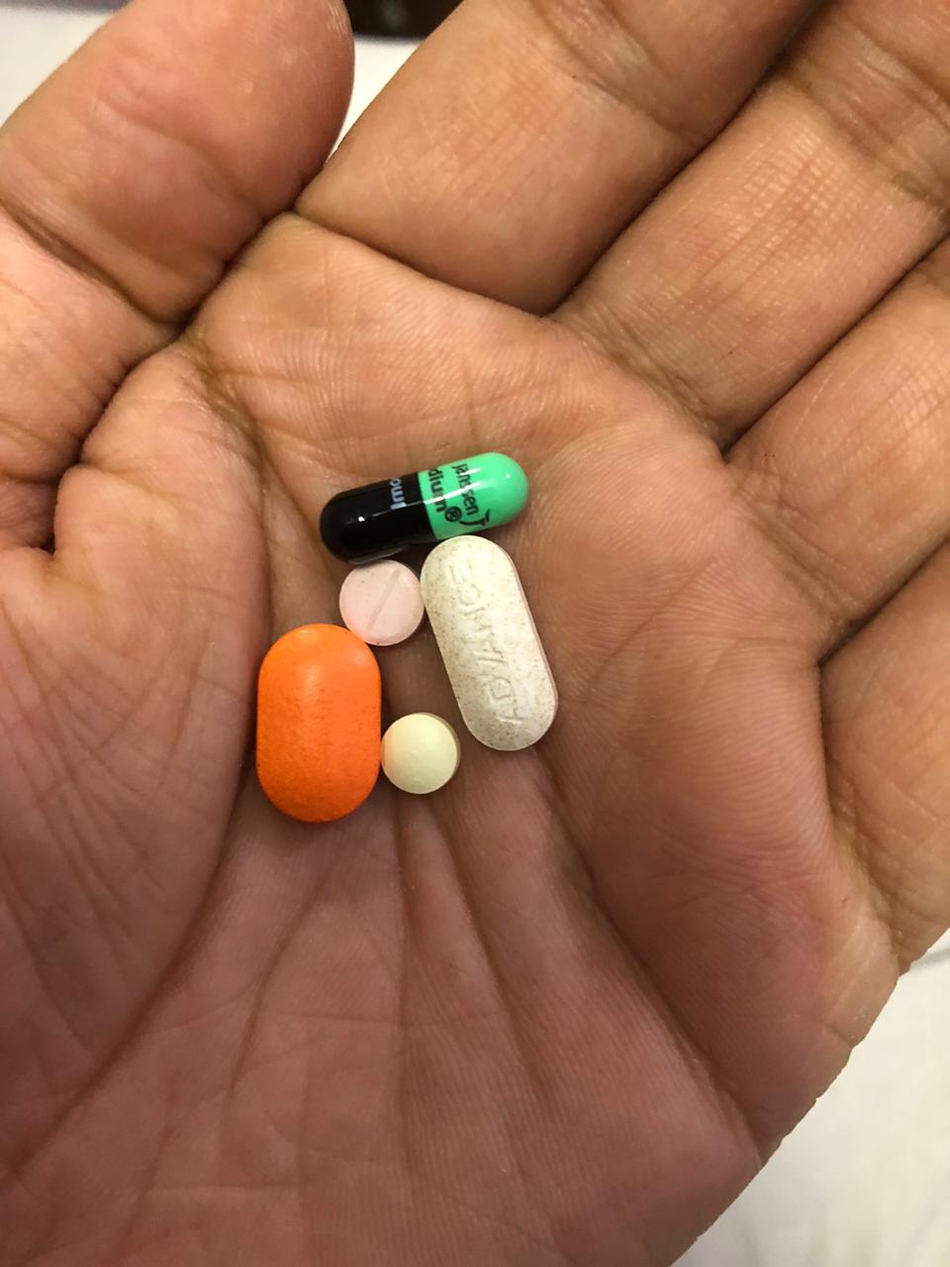tablets: (420, 535, 559, 751), (254, 623, 375, 824), (321, 451, 529, 559), (336, 559, 424, 640), (379, 714, 460, 795)
